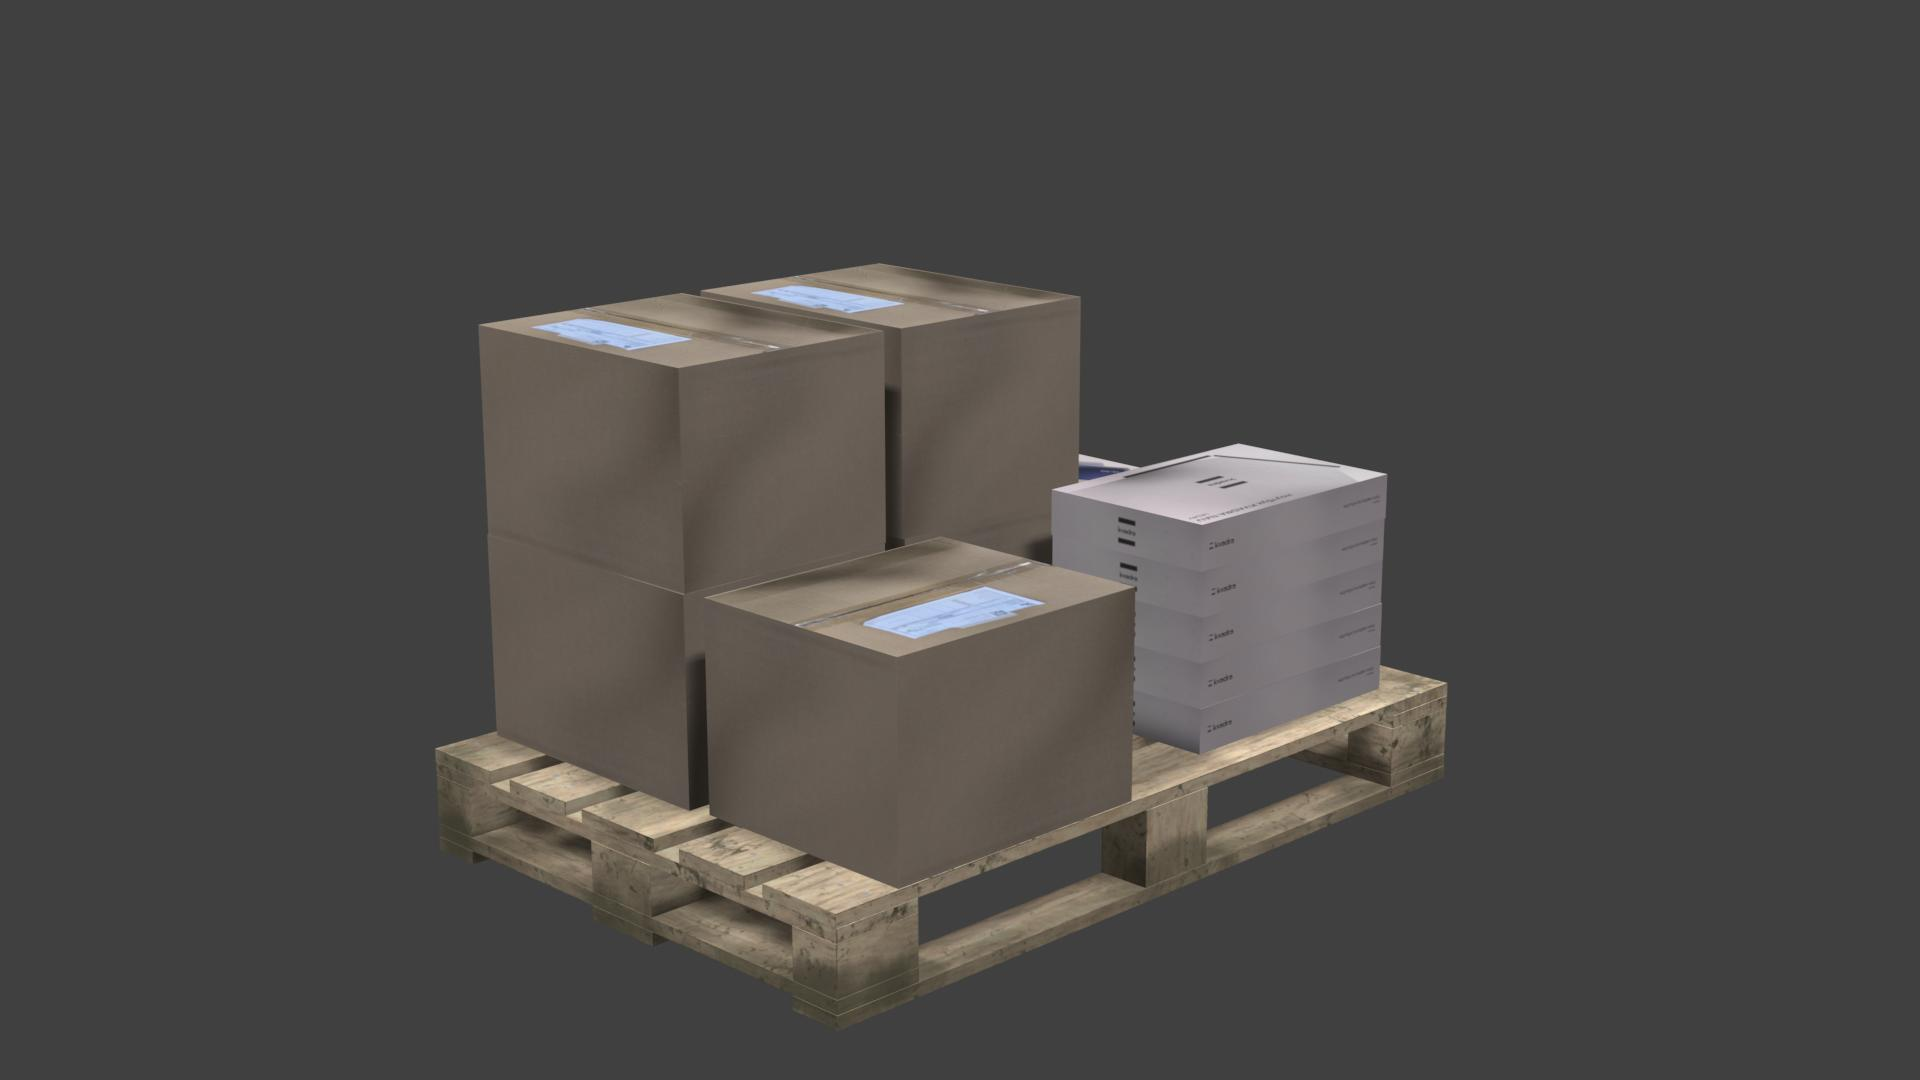group_box_left: (706, 588, 1134, 889), (478, 325, 887, 594), (488, 535, 707, 812), (900, 297, 1080, 538), (905, 505, 1051, 565)
group_box_top: (483, 291, 882, 368), (704, 264, 1079, 329)
laptop_left: (1053, 519, 1385, 617), (1052, 475, 1387, 572), (1133, 648, 1380, 755), (1134, 604, 1382, 709), (1134, 559, 1383, 663)
laptop_top: (1054, 444, 1386, 526)
palet: (435, 666, 1446, 1036)
tablet_top: (1079, 455, 1140, 483)
